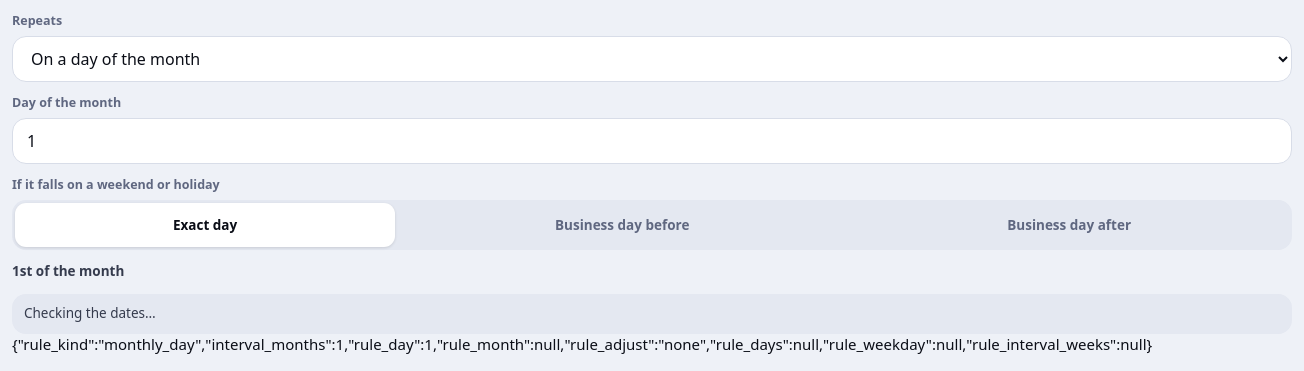
it: day of the month with the business day before (the salary rule)
Replace the text in the field labelled "Day of the month" with "26": (652, 141) [12,118,1292,164]
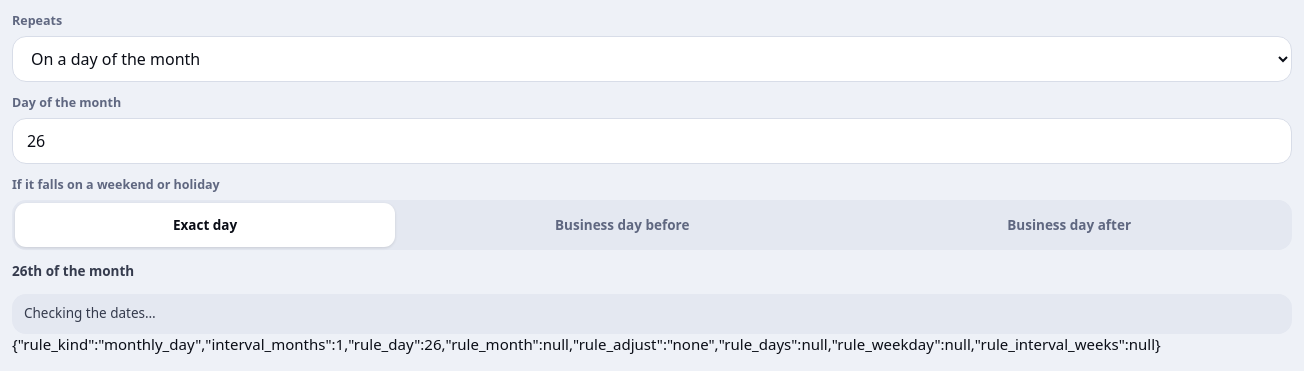
Click the button "Business day before": (622, 225) [397,203,847,247]
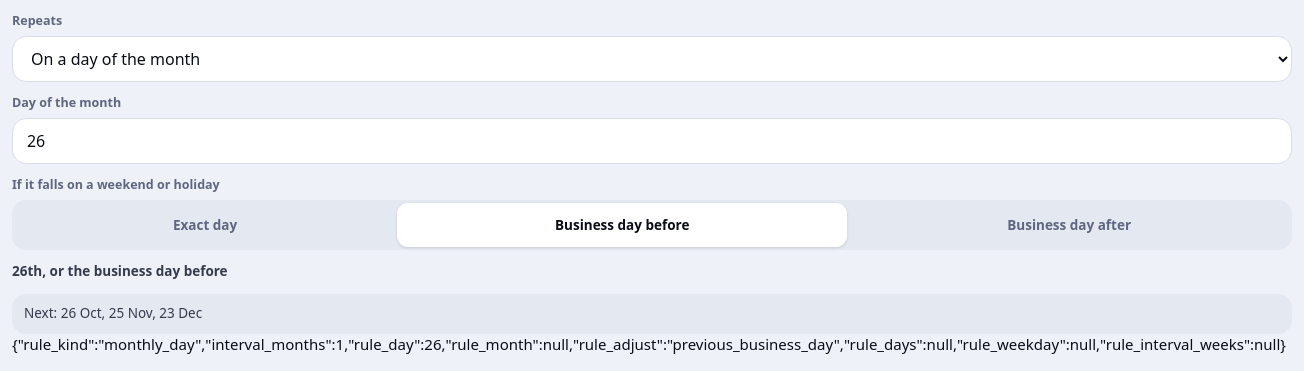
Expected: the text "26th, or the business day before" is shown, [12,262,228,280]
Expected: the text "Next: 26 Oct, 25 Nov, 23 Dec" is shown, [12,294,1292,334]
